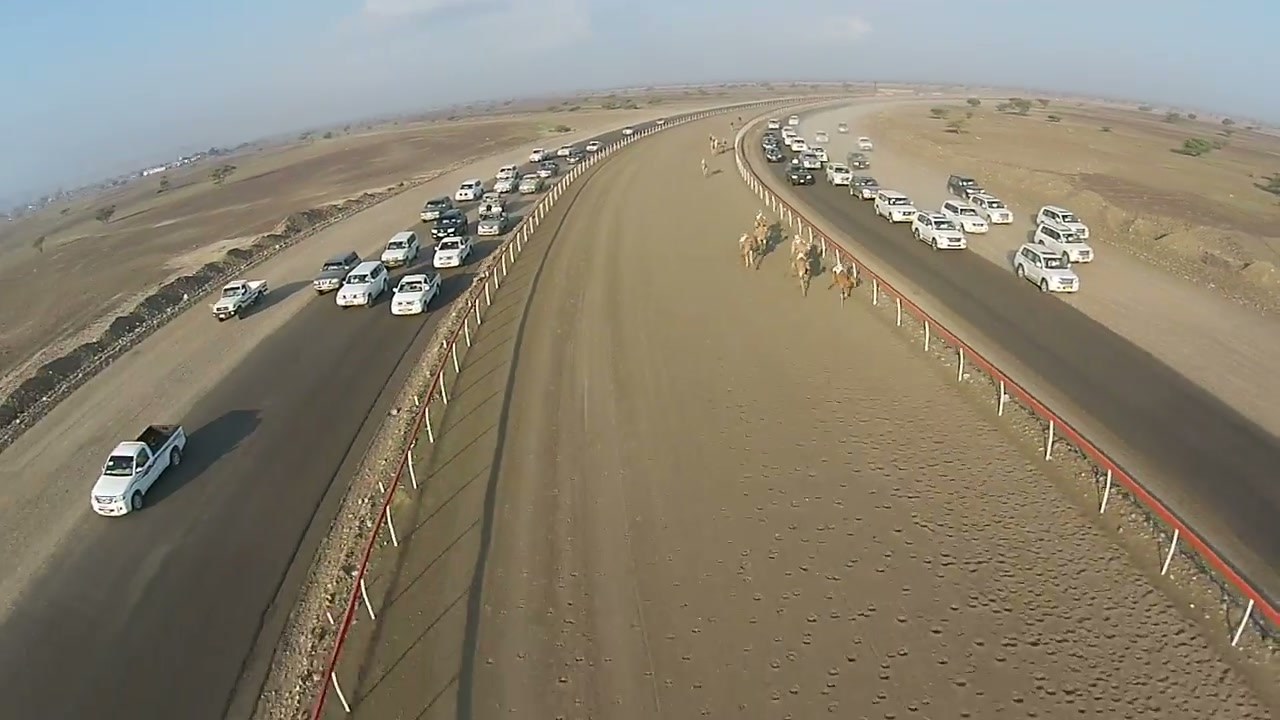animal_footprint: (786, 322, 1233, 719), (980, 466, 1226, 688)
